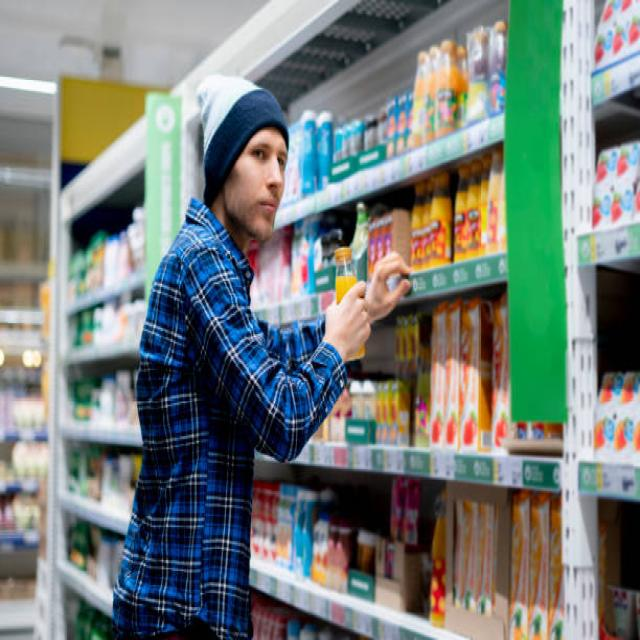article: (335, 248, 357, 303), (348, 342, 363, 358)
hands: (324, 282, 371, 359), (365, 253, 410, 322)
person: (113, 75, 410, 638)
